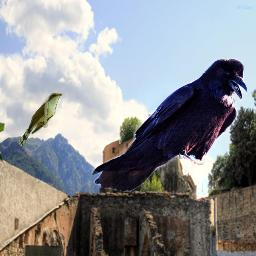Crow: (92, 58, 247, 192)
Cuckoo: (19, 93, 62, 146)
